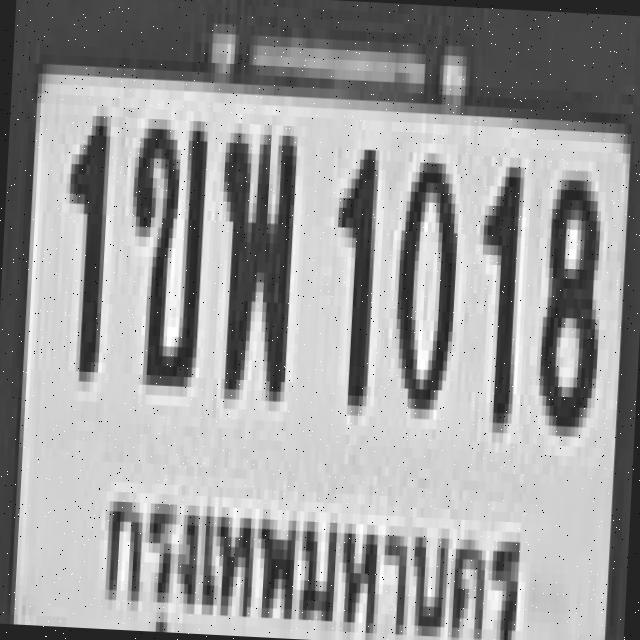0: (388, 142, 458, 411)
1: (57, 105, 108, 372), (326, 138, 376, 396), (470, 156, 518, 423)
11KhorKhai: (120, 108, 206, 377)
39PhorPan: (210, 123, 294, 392)
8: (534, 169, 603, 428)
Bangkok: (89, 468, 534, 640)
